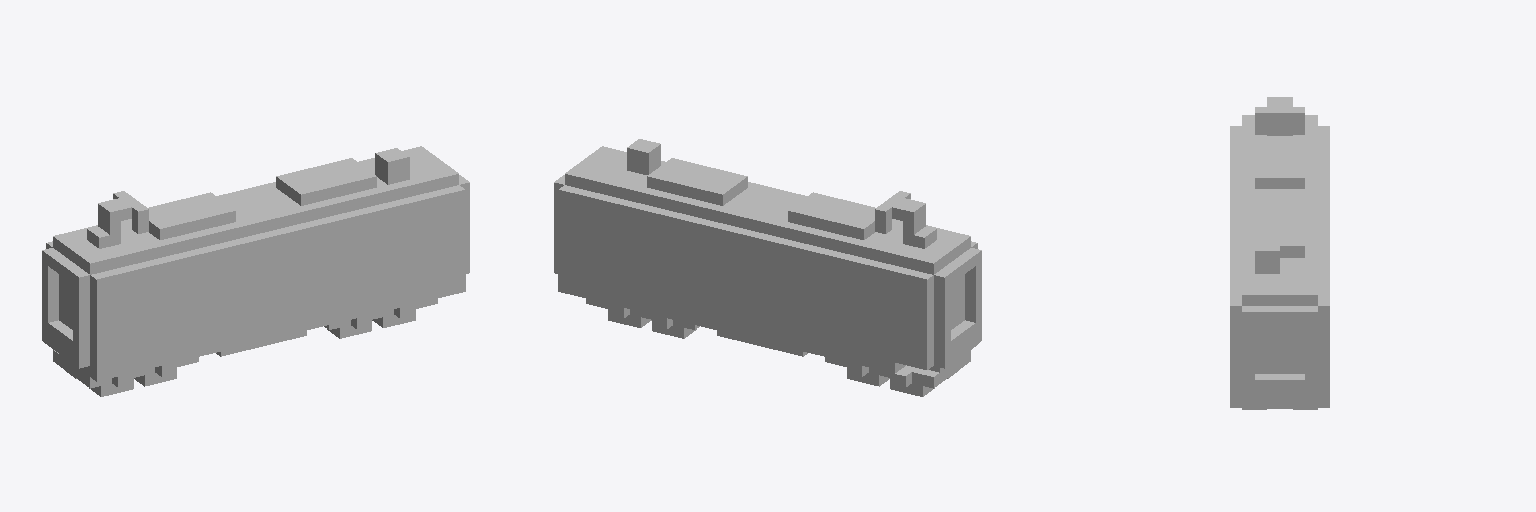
3 views of the same model, side by side, from view 1: azimuth 30°, elevation 25°; view 2: azimuth 150°, elevation 25°; view 3: azimuth 270°, elevation 25° (orthographic).
Parts seen in each view (by area): view 1: metro_middle; view 2: metro_middle; view 3: metro_middle.
Part boxes in pixels (left/top/right/bottom): metro_middle: left=42, top=146, right=469, bottom=396; metro_middle: left=554, top=139, right=981, bottom=396; metro_middle: left=1230, top=97, right=1329, bottom=409.
Bounding box in the file's own units: 4.5 × 1.88 × 1.